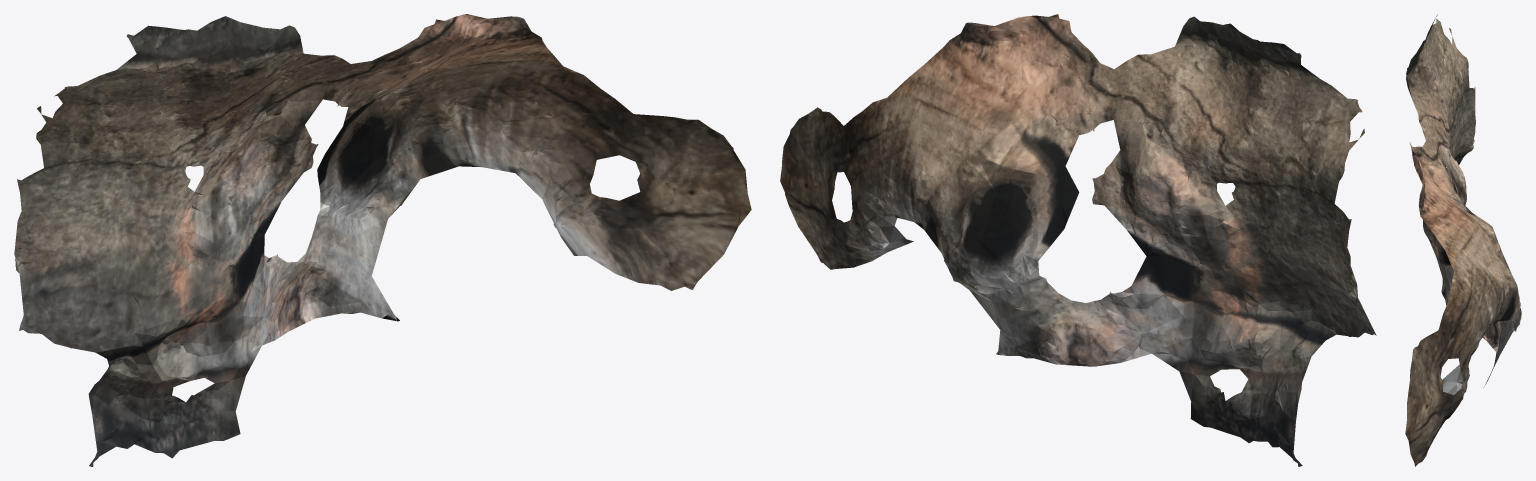
The picture shows the model from 3 angles, left to right: view 1: azimuth 30°, elevation 25°; view 2: azimuth 150°, elevation 25°; view 3: azimuth 270°, elevation 25°; orthographic projection. The views are drawn at different scales.
Parts seen in each view (by area): view 1: TexturedMesh; view 2: TexturedMesh; view 3: TexturedMesh.
Part boxes in pixels (x1,y1,x2,y2): TexturedMesh: (14, 14, 751, 466); TexturedMesh: (780, 14, 1376, 466); TexturedMesh: (1405, 14, 1521, 466).
Bounding box in the file's own units: 2.25 × 1.38 × 0.463.
Materials: 1 (1 with a texture image).
